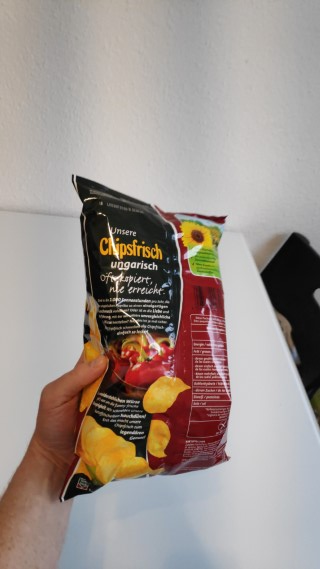chipsfrisch: (56, 173, 234, 504)
